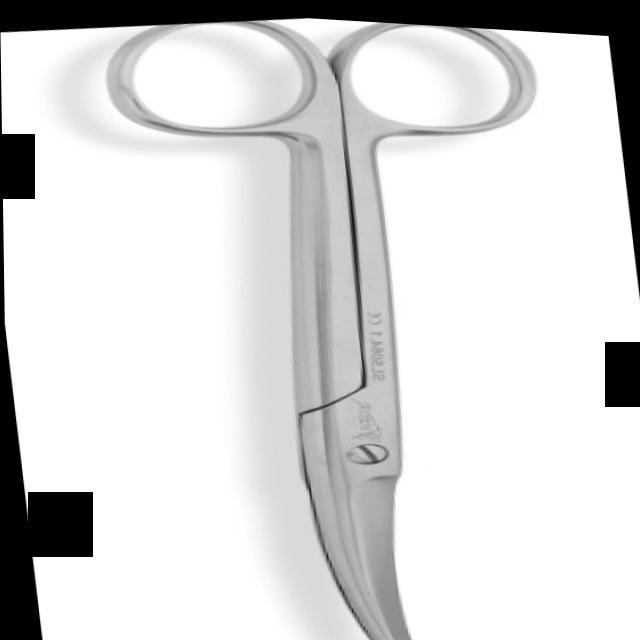Curved Mayo: (90, 4, 603, 640)
